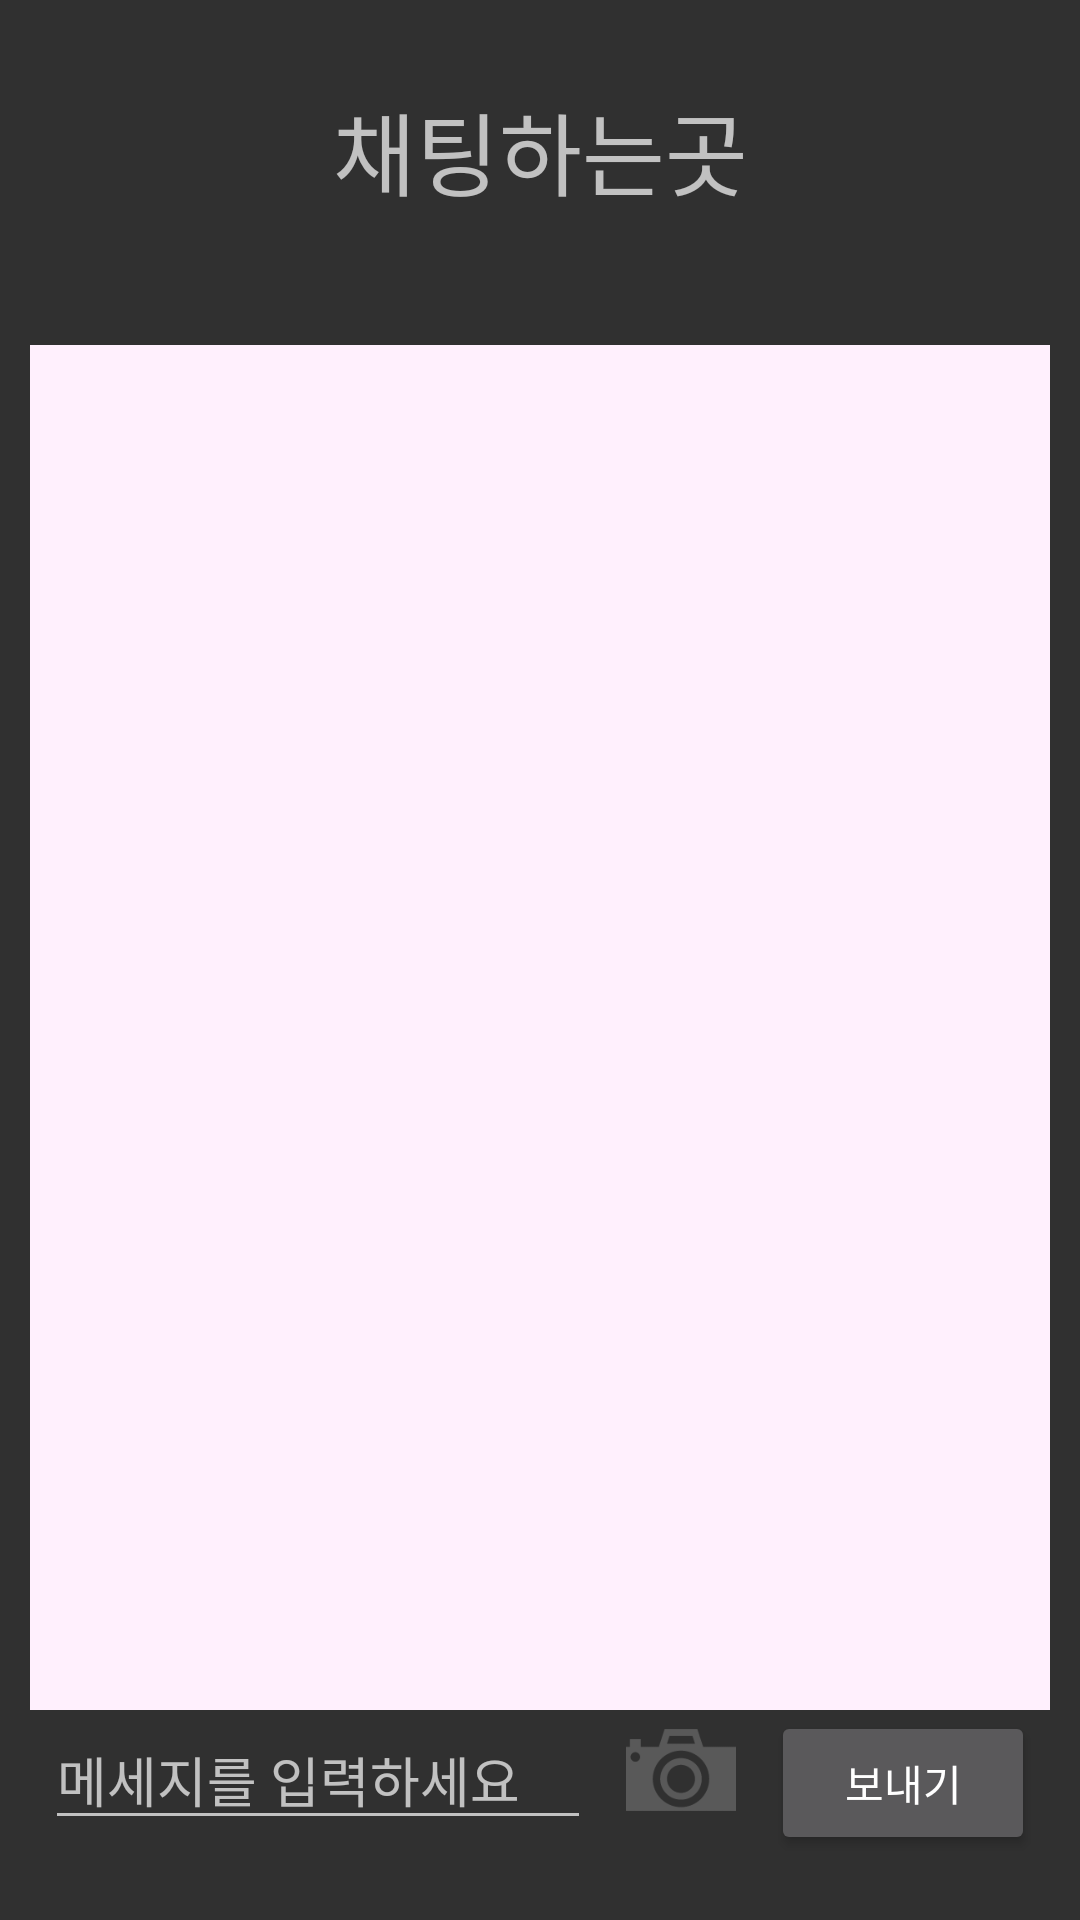

Named icons in this screenshot (1080px×1920px) and their centers, [x,y]:
camera: [681,1770]
